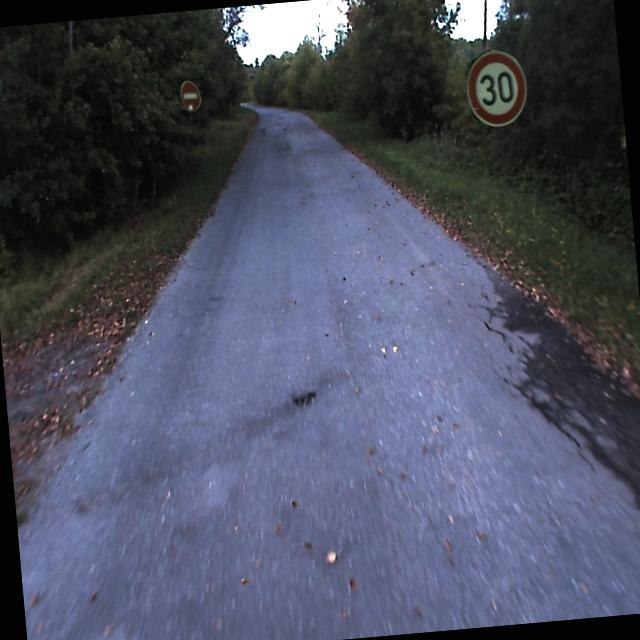road: (18, 110, 640, 640)
